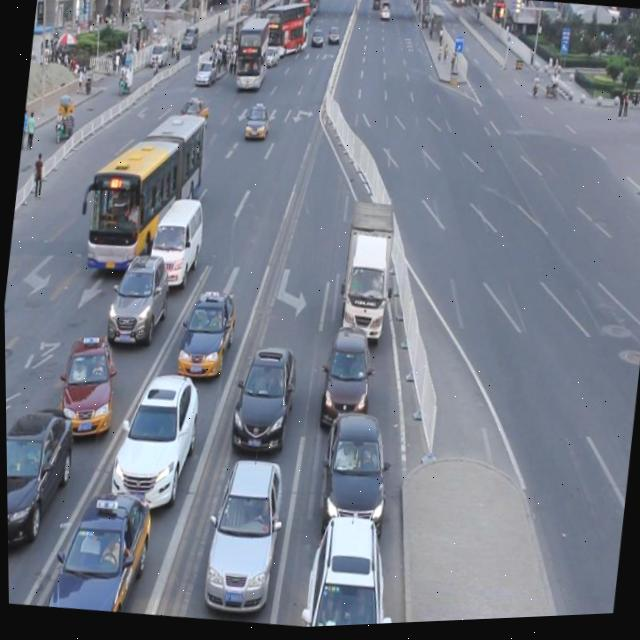bus: (334, 200, 398, 343)
car: (41, 479, 153, 618), (104, 364, 203, 518), (197, 451, 287, 617), (297, 505, 394, 630), (5, 397, 76, 551), (313, 406, 393, 537), (225, 339, 299, 459), (53, 330, 121, 441), (102, 249, 174, 351), (316, 322, 377, 437), (173, 284, 237, 381), (174, 95, 209, 129), (243, 103, 271, 143)
truck: (142, 191, 207, 294)
van: (82, 104, 208, 278)
